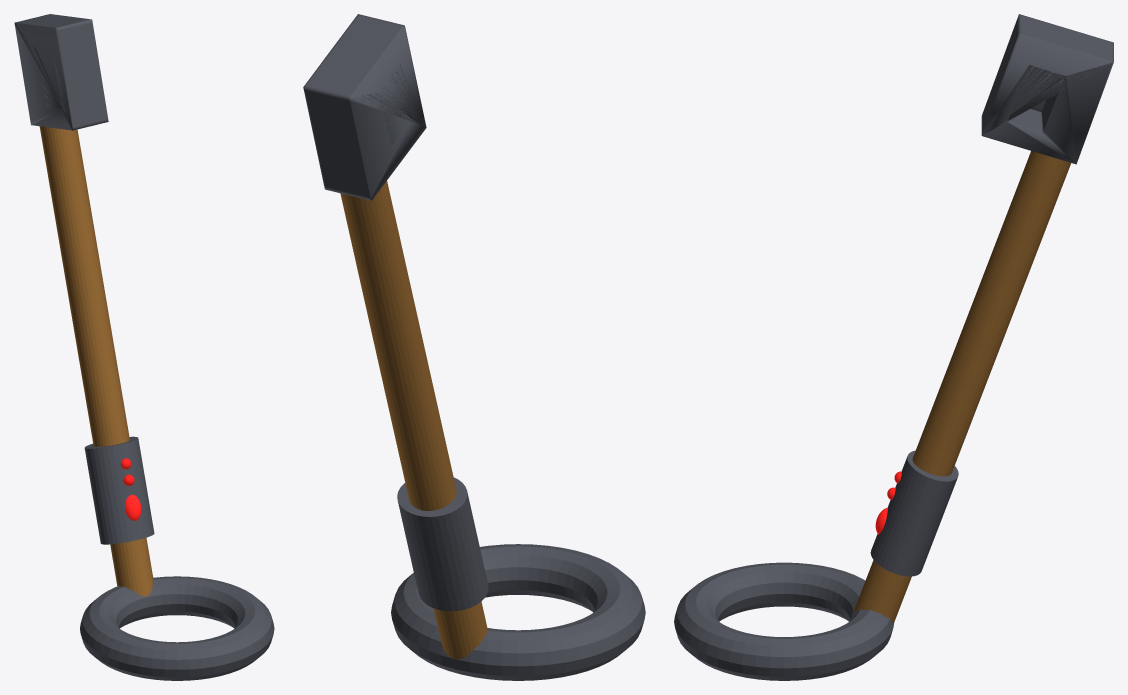
File: Detector.fbx
3 views of the same model, side by side, from view 1: azimuth 30°, elevation 25°; view 2: azimuth 150°, elevation 25°; view 3: azimuth 270°, elevation 25° (orthographic). The views are drawn at different scales.
Parts seen in each view (by area): view 1: Bottom; view 2: Bottom; view 3: Bottom.
Boxes of the visible parts, bbox=[...] form: Bottom: bbox=[14, 14, 274, 680]; Bottom: bbox=[303, 14, 645, 680]; Bottom: bbox=[674, 14, 1113, 680].
Size of the model in its own units: 210 by 651 by 420.
